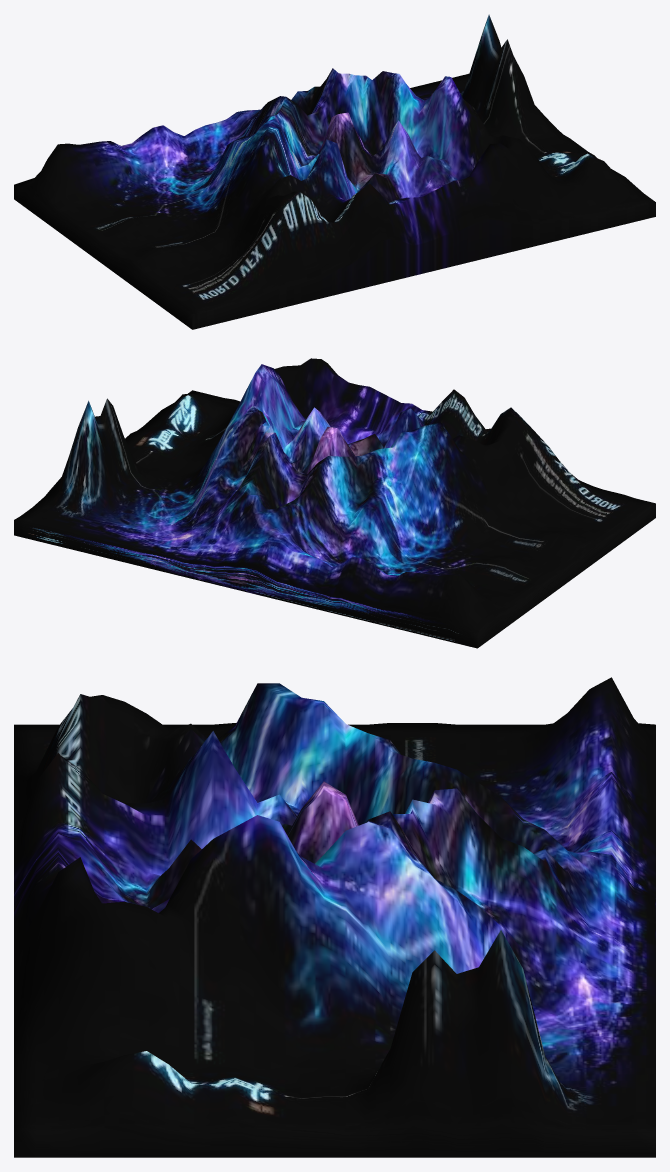
File: WORLD_VFX_01_Qi_Aura.glb
The picture shows the model from 3 angles, top to bottom: view 1: azimuth 30°, elevation 25°; view 2: azimuth 150°, elevation 25°; view 3: azimuth 270°, elevation 25°; orthographic projection. The views are drawn at different scales.
Parts seen in each view (by area): view 1: WORLD_VFX_01_Qi_Aura; view 2: WORLD_VFX_01_Qi_Aura; view 3: WORLD_VFX_01_Qi_Aura.
Part boxes in pixels (box(x1,y1,x2,y2)): WORLD_VFX_01_Qi_Aura: box(14, 14, 655, 329); WORLD_VFX_01_Qi_Aura: box(14, 358, 655, 648); WORLD_VFX_01_Qi_Aura: box(14, 677, 655, 1157).
Bounding box in the file's own units: 2 × 0.51 × 1.33.
Materials: 1 (1 with a texture image).
